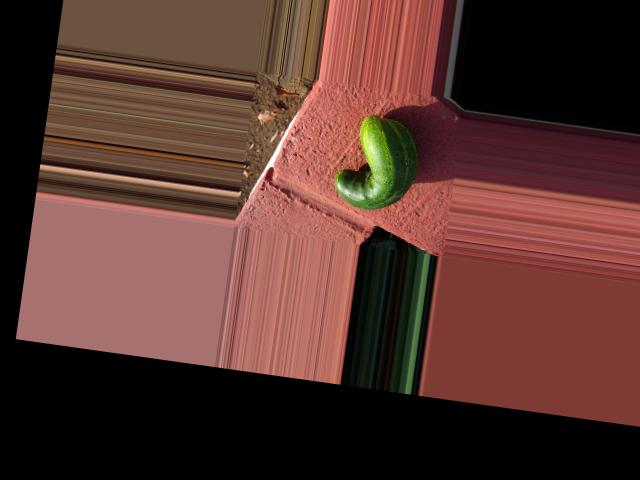cucumber: (329, 110, 422, 215)
